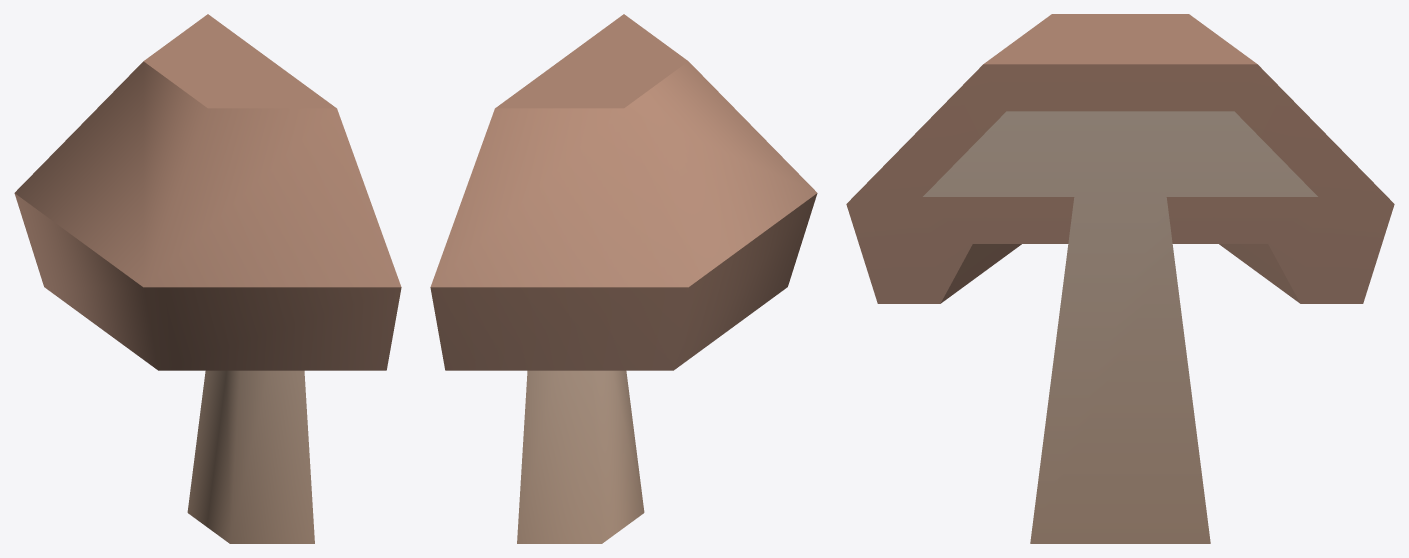
Rendered from mushroom-half.glb.
The picture shows the model from 3 angles, left to right: view 1: azimuth 30°, elevation 25°; view 2: azimuth 150°, elevation 25°; view 3: azimuth 270°, elevation 25°; orthographic projection. The views are drawn at different scales.
Parts seen in each view (by area): view 1: mushroom-half; view 2: mushroom-half; view 3: mushroom-half.
Part boxes in pixels (x1,y1,x2,y2): mushroom-half: [14, 14, 401, 543]; mushroom-half: [430, 14, 817, 543]; mushroom-half: [846, 14, 1394, 543].
Bounding box in the file's own units: 0.0624 × 0.1392 × 0.1442.
